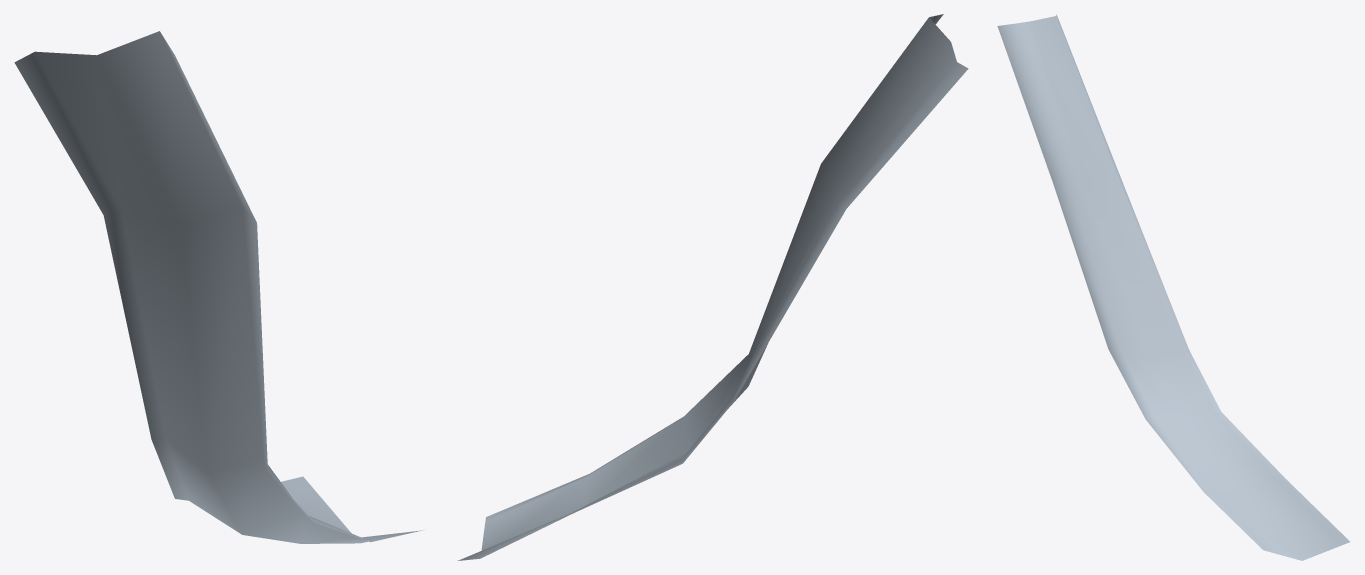
File: pubofemoral-ligament-l.glb
3 views of the same model, side by side, from view 1: azimuth 30°, elevation 25°; view 2: azimuth 150°, elevation 25°; view 3: azimuth 270°, elevation 25° (orthographic). The views are drawn at different scales.
Parts seen in each view (by area): view 1: Pubofemoral ligament.l; view 2: Pubofemoral ligament.l; view 3: Pubofemoral ligament.l.
Part boxes in pixels (box(x1,y1,x2,y2)): Pubofemoral ligament.l: box(14, 31, 425, 543); Pubofemoral ligament.l: box(458, 14, 968, 560); Pubofemoral ligament.l: box(997, 14, 1349, 560).
Size of the model in its own units: 0.0349 by 0.045 by 0.0344.
